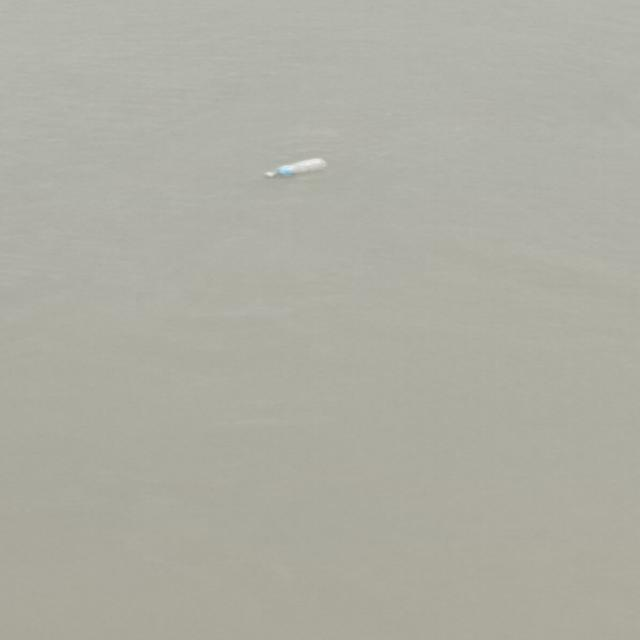Plastic: (246, 150, 341, 192)
